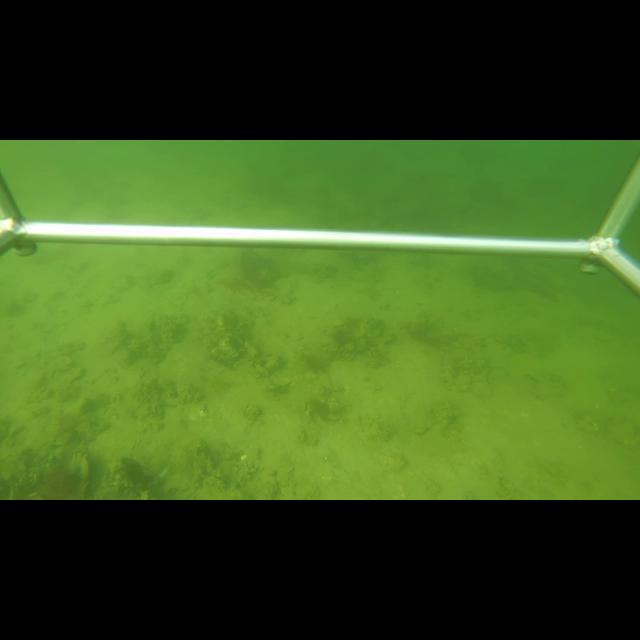Oyster-Closed: (268, 376, 294, 388)
